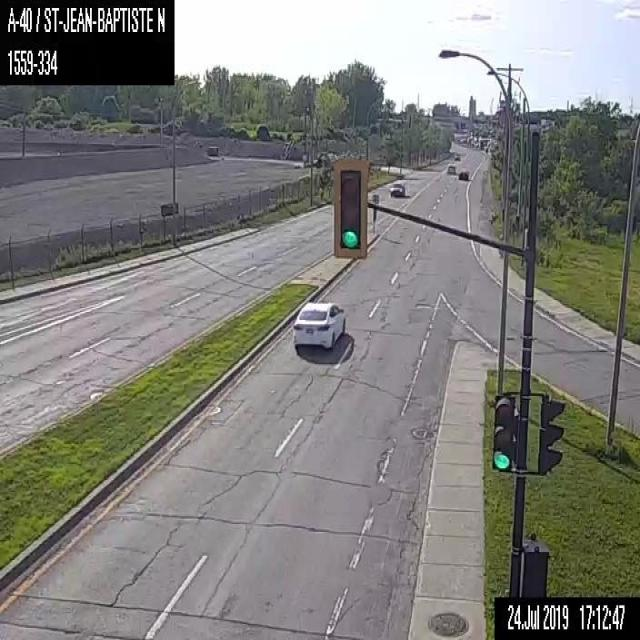vehicle: (291, 300, 344, 349), (390, 180, 404, 196), (446, 163, 456, 172), (458, 171, 467, 180)
